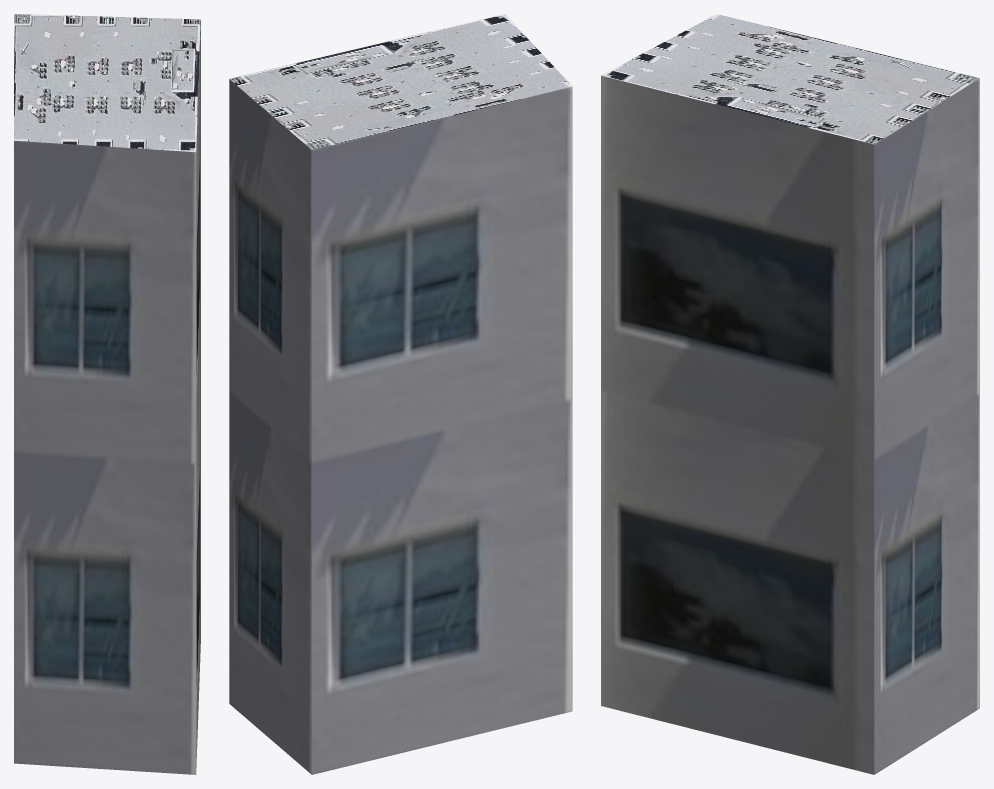
The model's file is ResTex__2780.fbx.
3 renders of one model, left to right at view 1: azimuth 30°, elevation 25°; view 2: azimuth 150°, elevation 25°; view 3: azimuth 270°, elevation 25°, orthographic.
Visible parts, largest first — view 1: CityEngineMaterial_10_m, CityEngineMaterial_2_m; view 2: CityEngineMaterial_10_m, CityEngineMaterial_2_m; view 3: CityEngineMaterial_10_m, CityEngineMaterial_2_m.
Part boxes in pixels (x1,y1,x2,y2): CityEngineMaterial_10_m: (14, 21, 200, 774); CityEngineMaterial_2_m: (14, 14, 200, 152); CityEngineMaterial_10_m: (229, 79, 572, 774); CityEngineMaterial_2_m: (230, 14, 572, 149); CityEngineMaterial_10_m: (601, 75, 979, 774); CityEngineMaterial_2_m: (601, 14, 979, 144).
Bounding box in the file's own units: 2.67 × 6 × 3.27.
2 materials, 2 textured.
